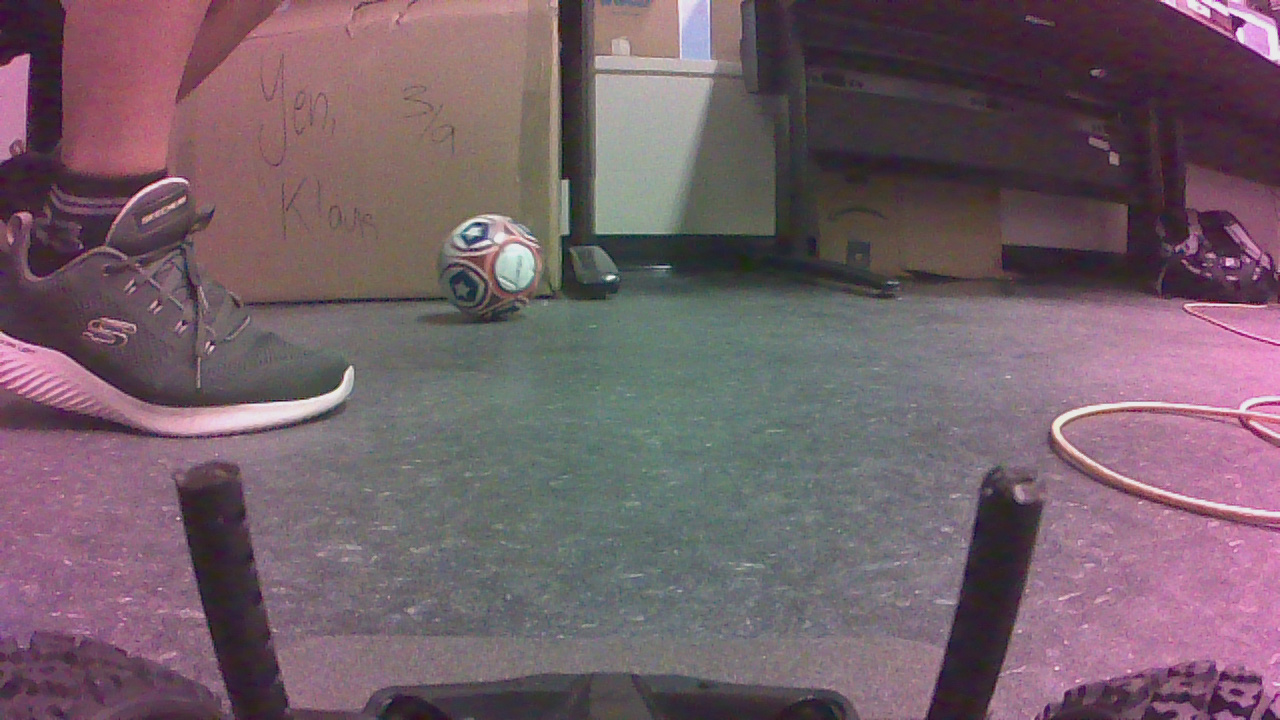ball: (439, 212, 545, 324)
